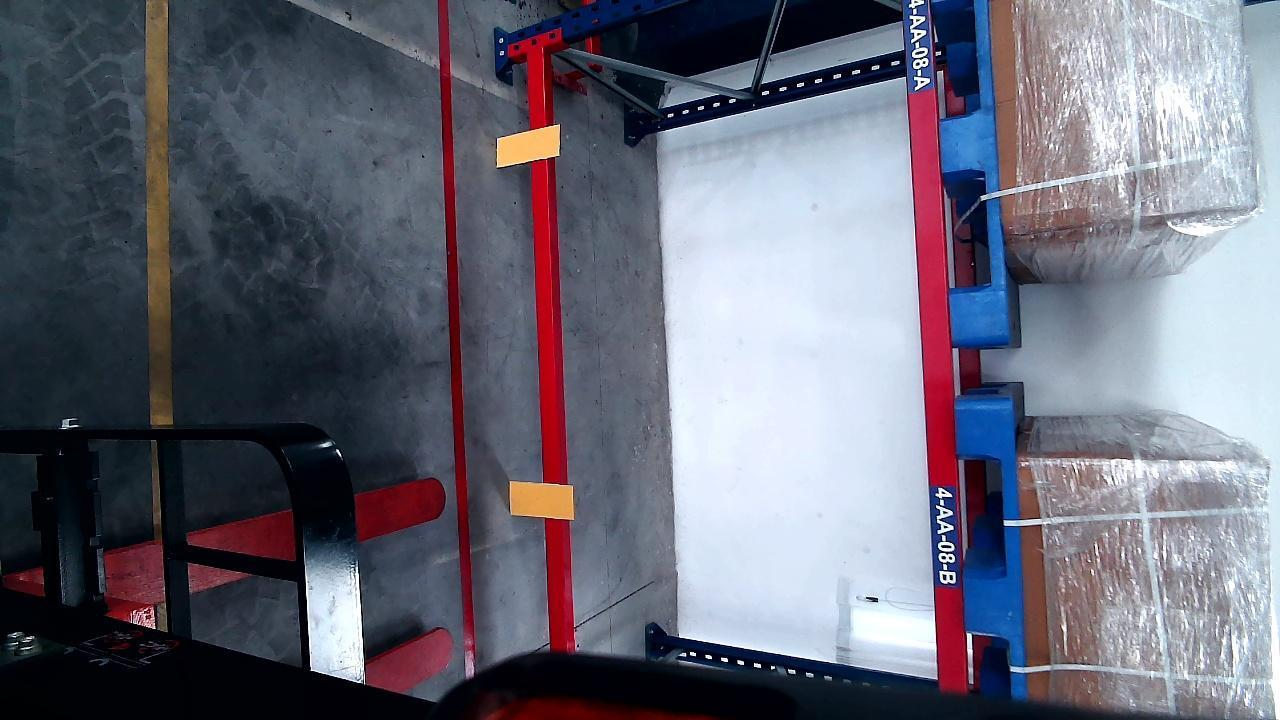h_rack: (901, 7, 971, 689), (526, 43, 570, 656)
orange_strip: (495, 125, 559, 167), (508, 480, 574, 519)
small_pallet: (931, 0, 1008, 343), (959, 405, 1024, 693)
yellow_line: (145, 2, 174, 425)
